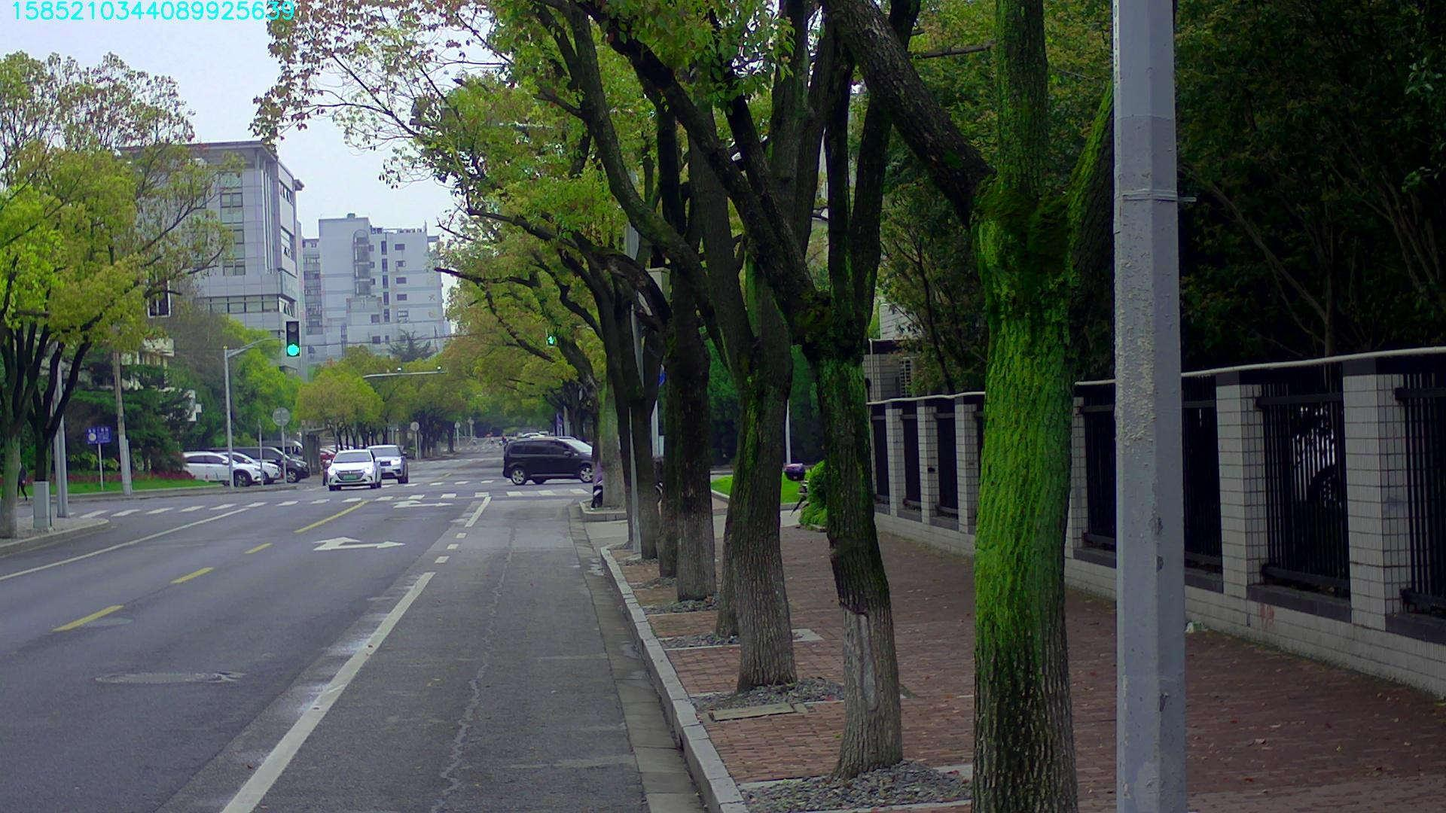green: (285, 320, 300, 357), (546, 328, 557, 346)
